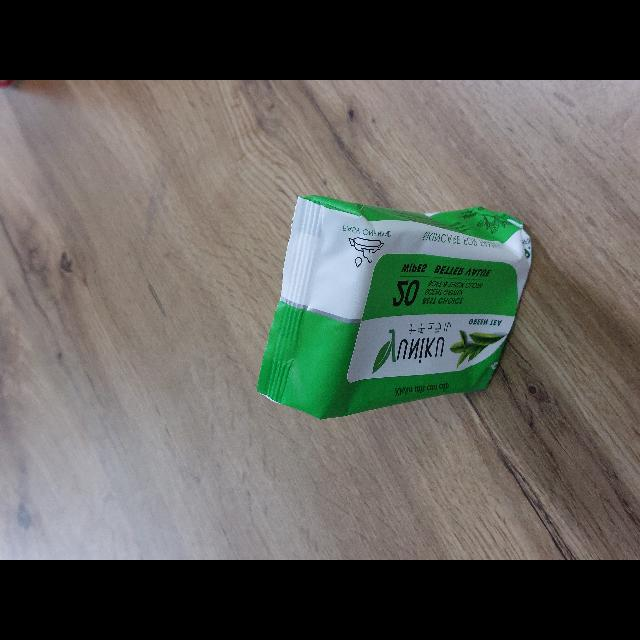khan_giay: (116, 80, 339, 302)
